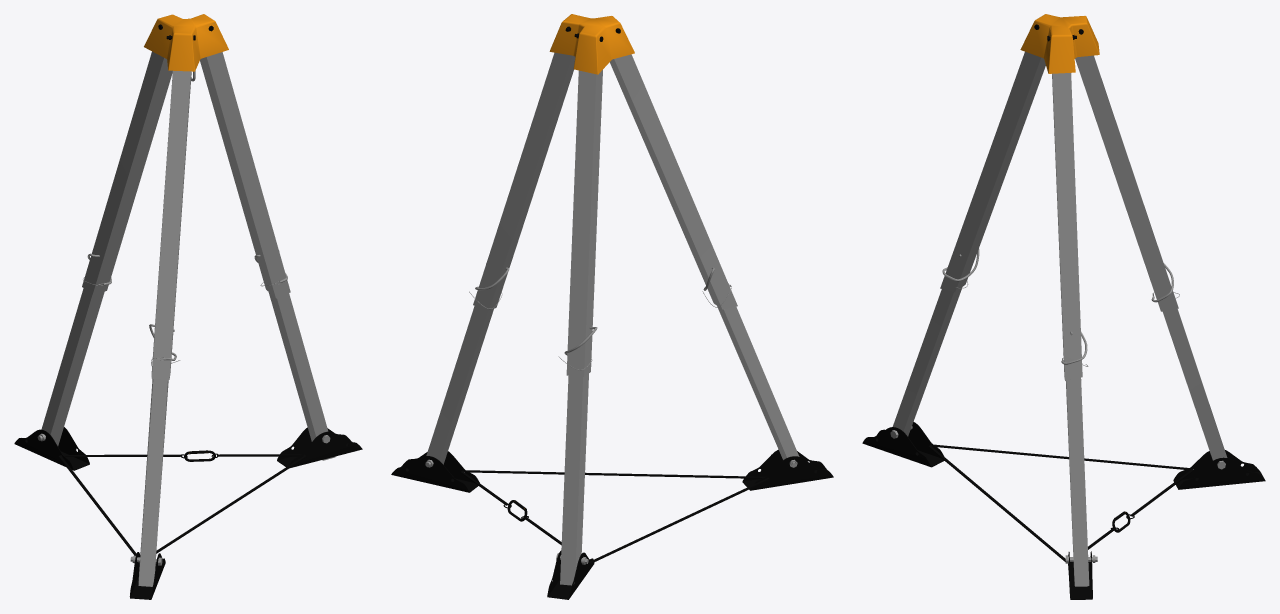
The model's file is SM_Mega_Pod.FBX.
The picture shows the model from 3 angles, left to right: view 1: azimuth 30°, elevation 25°; view 2: azimuth 150°, elevation 25°; view 3: azimuth 270°, elevation 25°; orthographic projection. The views are drawn at different scales.
Visible parts, largest first — view 1: SM_Mega_Pod; view 2: SM_Mega_Pod; view 3: SM_Mega_Pod.
Part boxes in pixels (x1,y1,x2,y2): SM_Mega_Pod: (14,14,362,599); SM_Mega_Pod: (391,14,833,599); SM_Mega_Pod: (862,14,1265,599).
Bounding box in the file's own units: 964 × 1344 × 1003.
